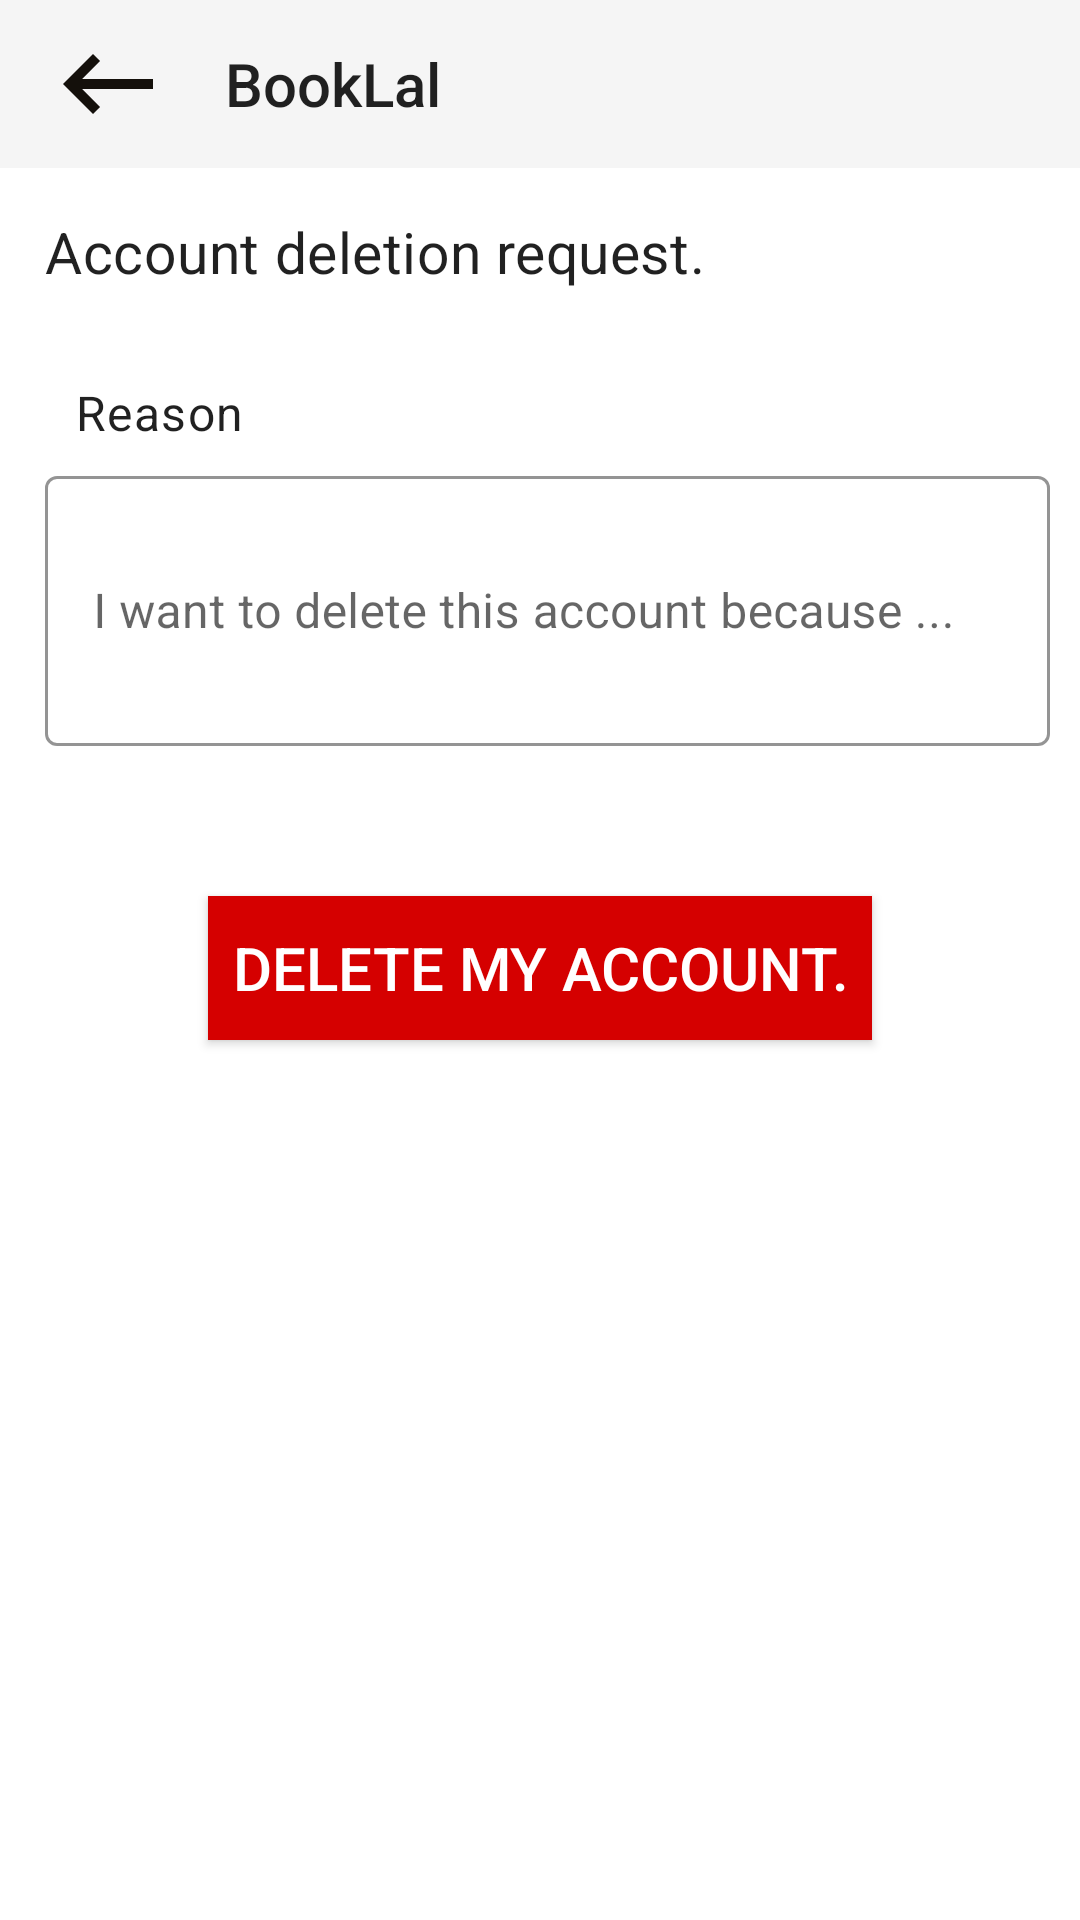

Screen size 1080*1920. Icon name, then its box in pixels as (x1, y1, x2, y2):
long back arrow: (63, 54, 153, 114)
